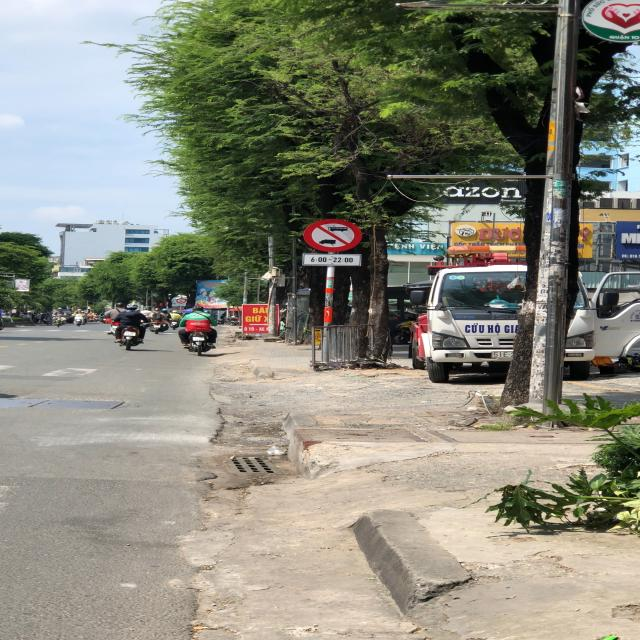Bien bao cam xe oto khach va xe oto tai: (295, 215, 368, 252)
